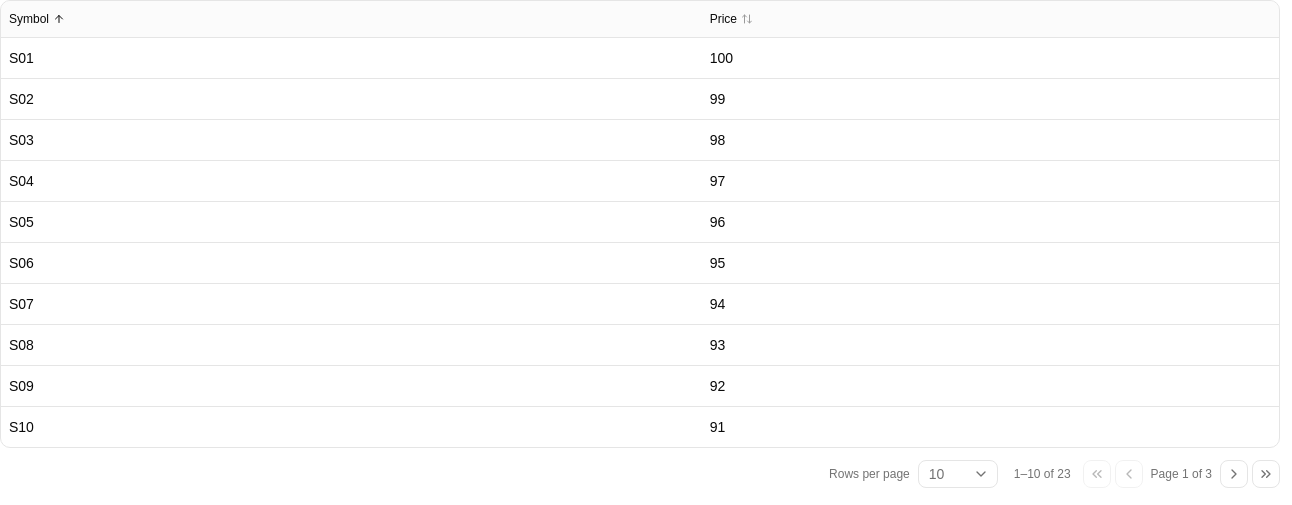
Test: DataTable paging › jumps to the last and back to the first page, with a rows-per-page choice
Click the button named "Last page": (1266,474) [1252,460,1280,488]
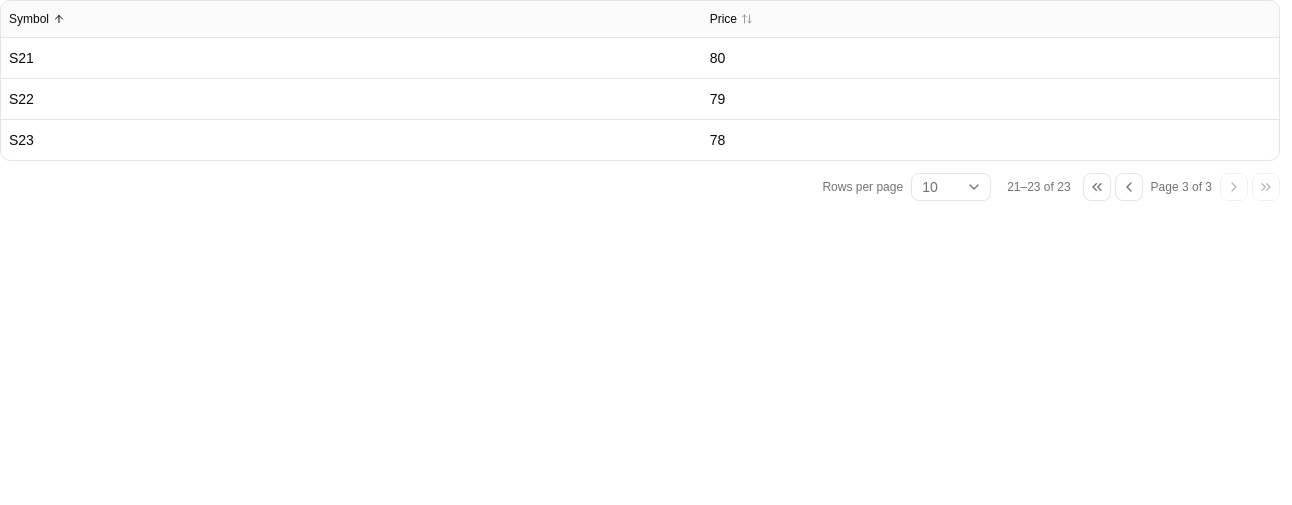
Expected: the button named "Next page" is disabled, [1220,172,1248,200]
Result: the text "Page 3 of 3" is shown at [1147,178,1216,194]
Click the button named "First page": (1097,186) [1083,172,1111,200]
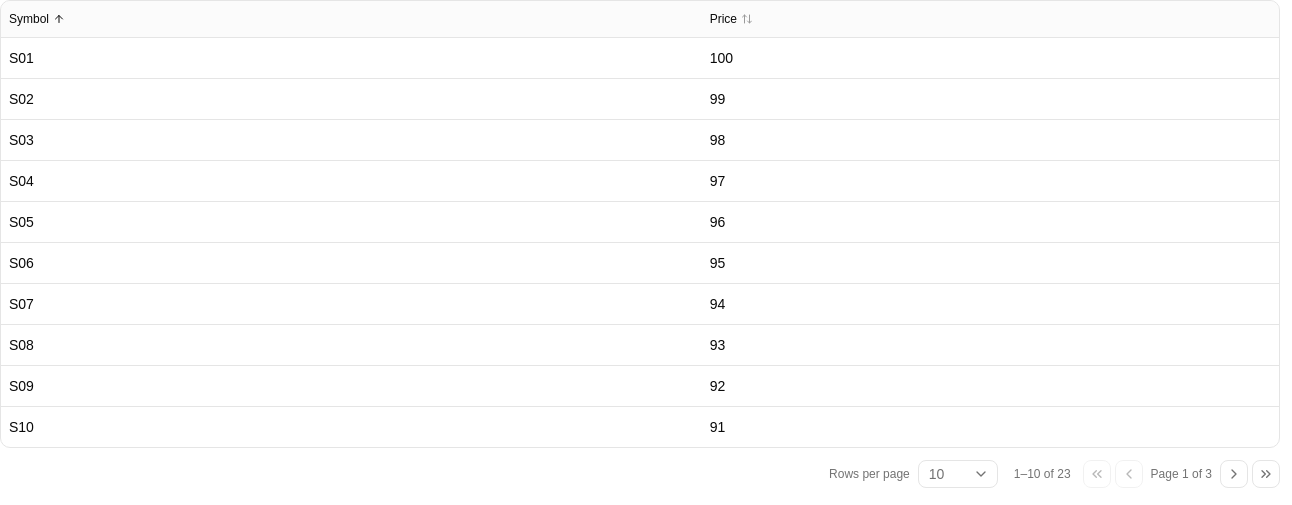
Expected: the dropdown named "Rows per page" is shown, [918,460,998,488]
Result: the cell "S01" is shown at [1,37,702,78]
